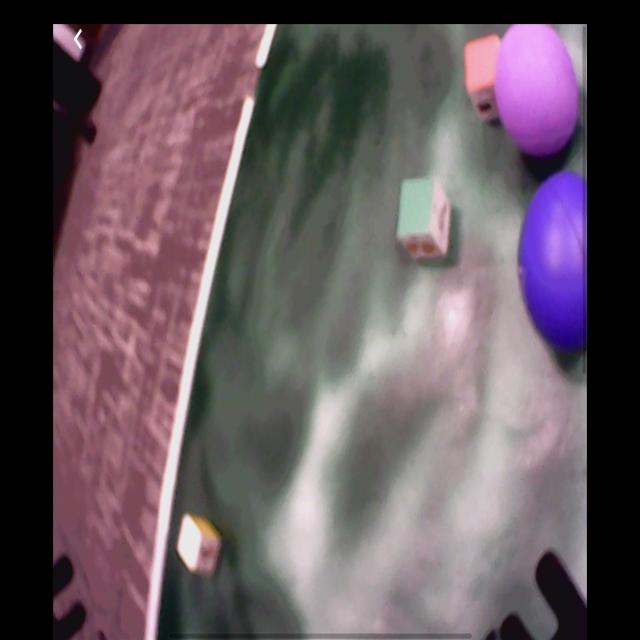ball: (518, 173, 585, 347), (495, 26, 581, 154)
